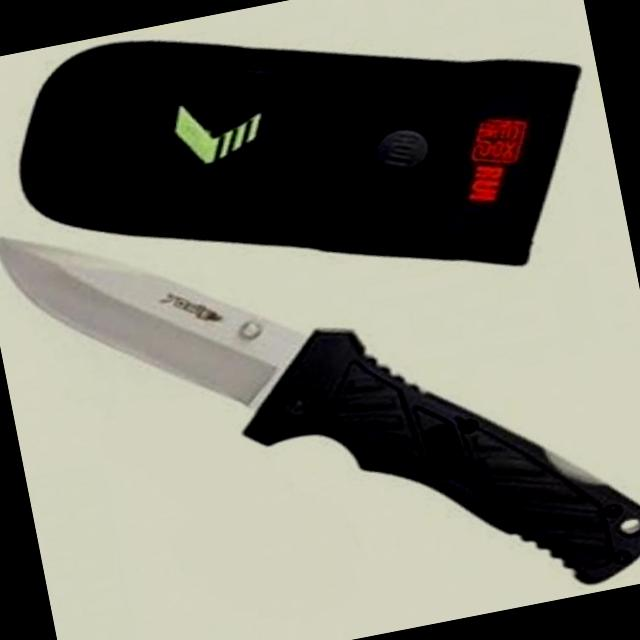knife: (0, 171, 342, 464)
